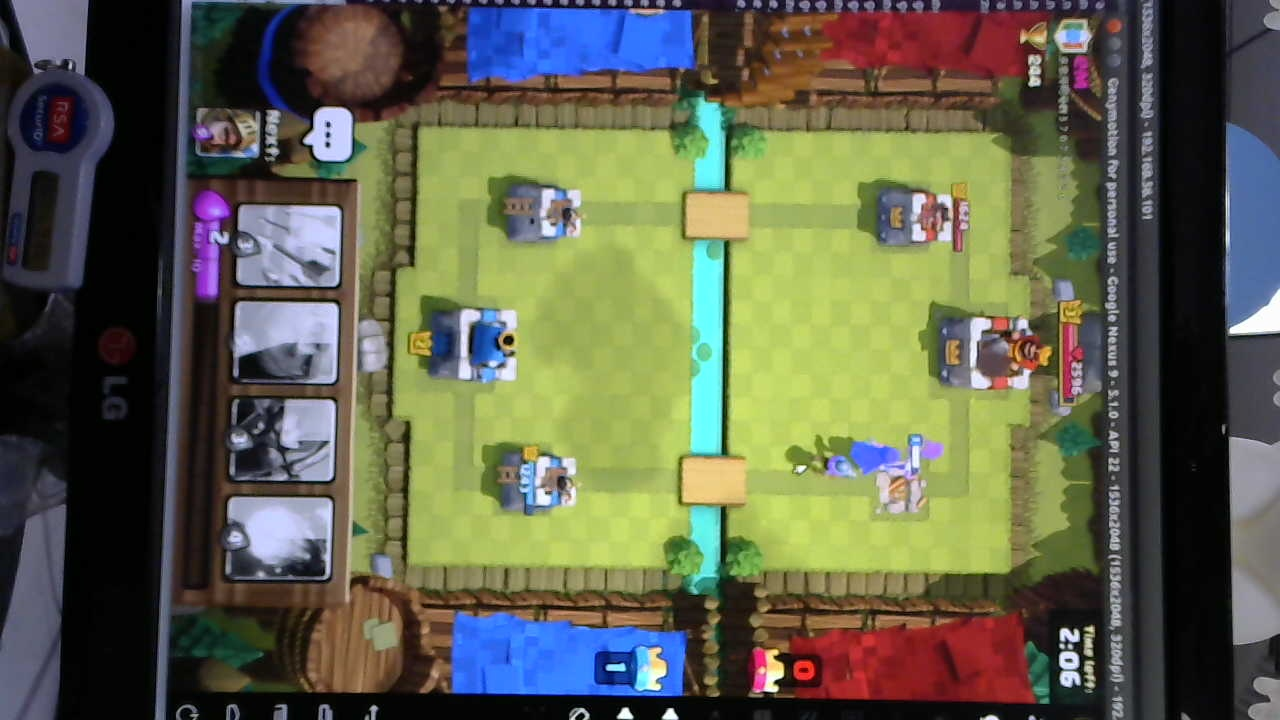arena: (501, 447, 582, 512), (509, 185, 583, 244)
darena: (866, 460, 931, 520)
earena: (876, 186, 955, 249)
eking: (936, 306, 1049, 396)
king: (428, 299, 522, 385)
musketeer: (806, 449, 860, 478)
witch: (846, 439, 910, 473)
